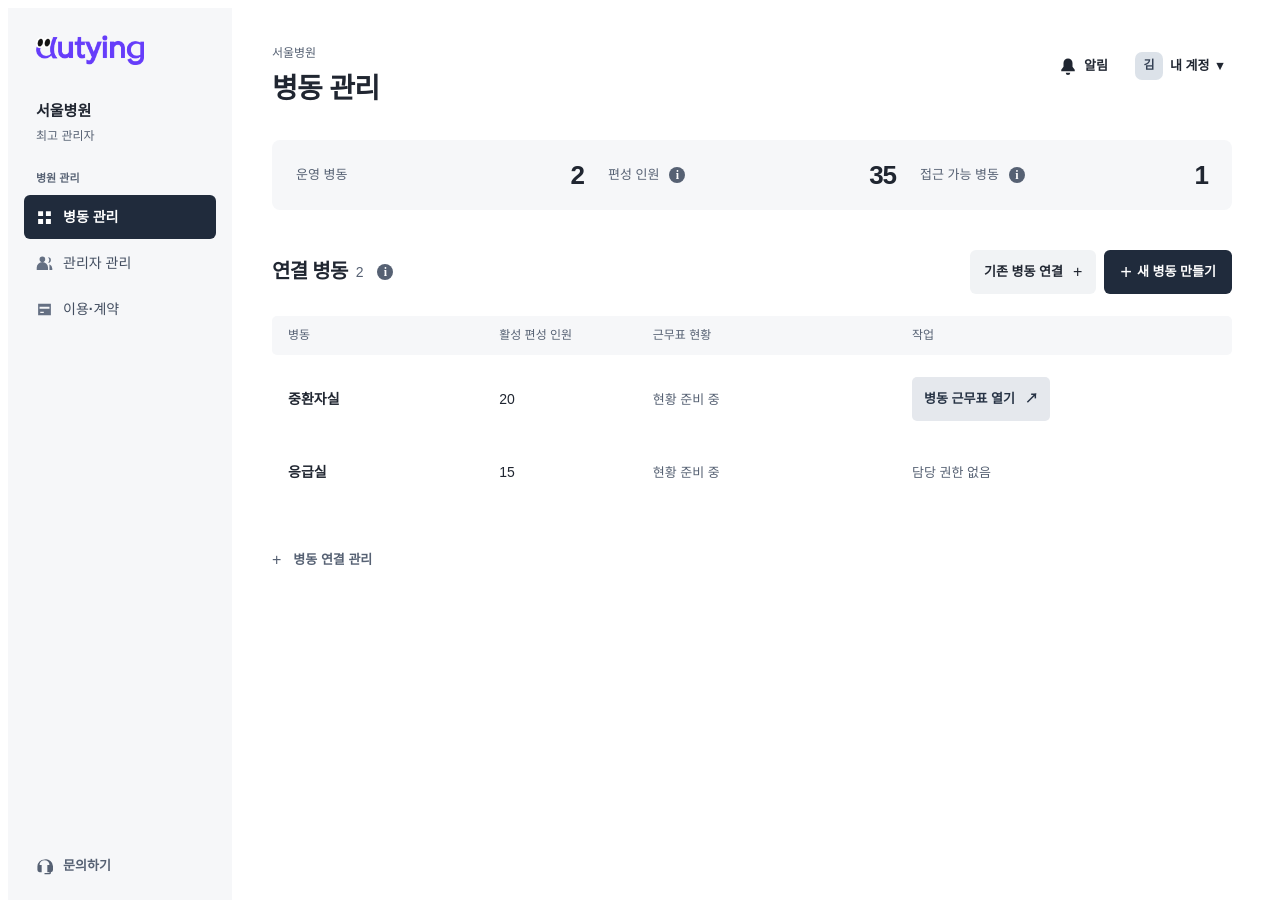
it: hospital management workspace › selects the authorized ward before entering scheduling and hides inaccessible ward actions
The width and height of the screenshot is (1280, 900).
What coordinates should you click on to do the following:
click the button "병동 근무표 열기 ↗"
I would click on:
 (981, 399)
Its box is [912,377,1050,421].
(page scrolled)
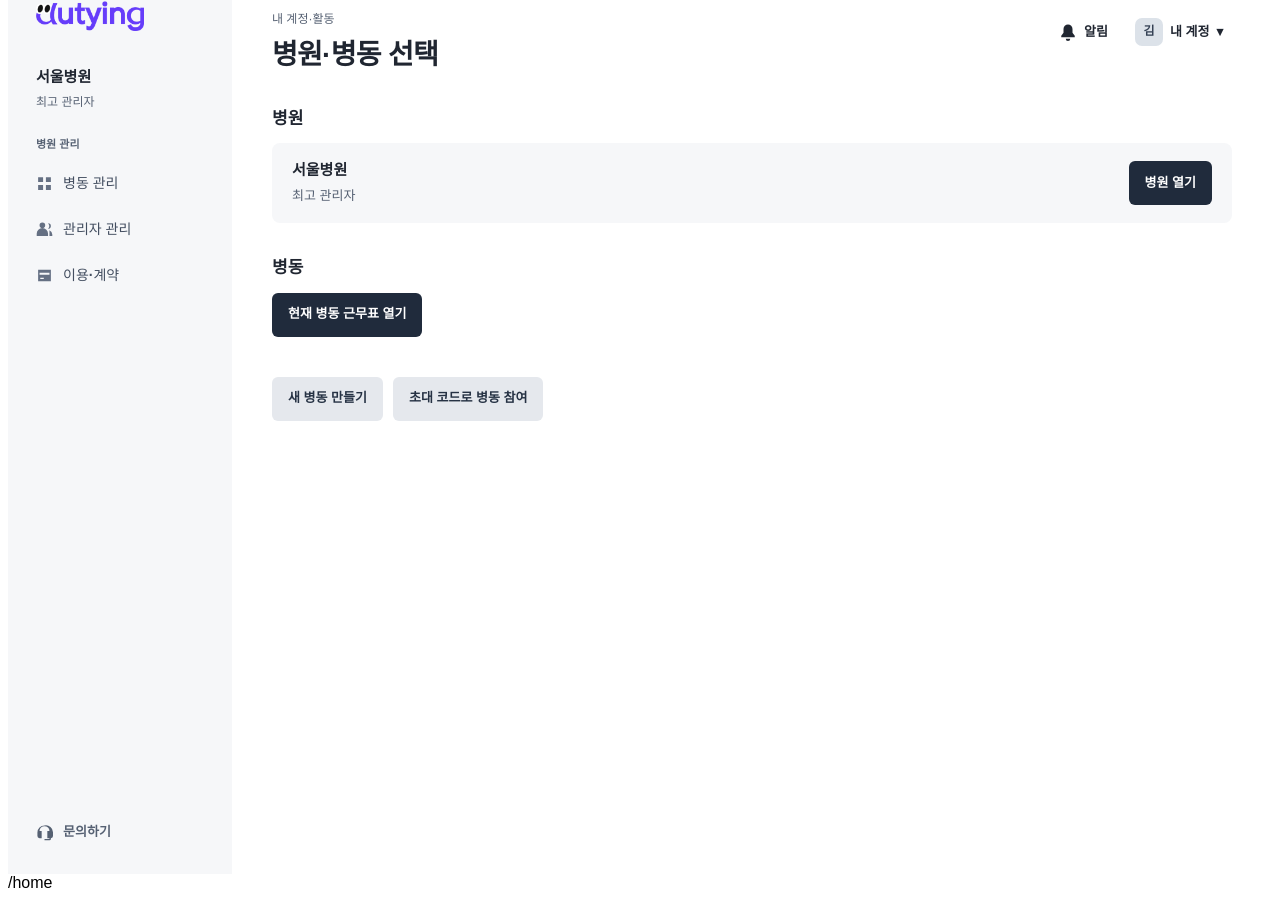
expect the text named "current route" reads "/home": met, box [8,874,52,891]
